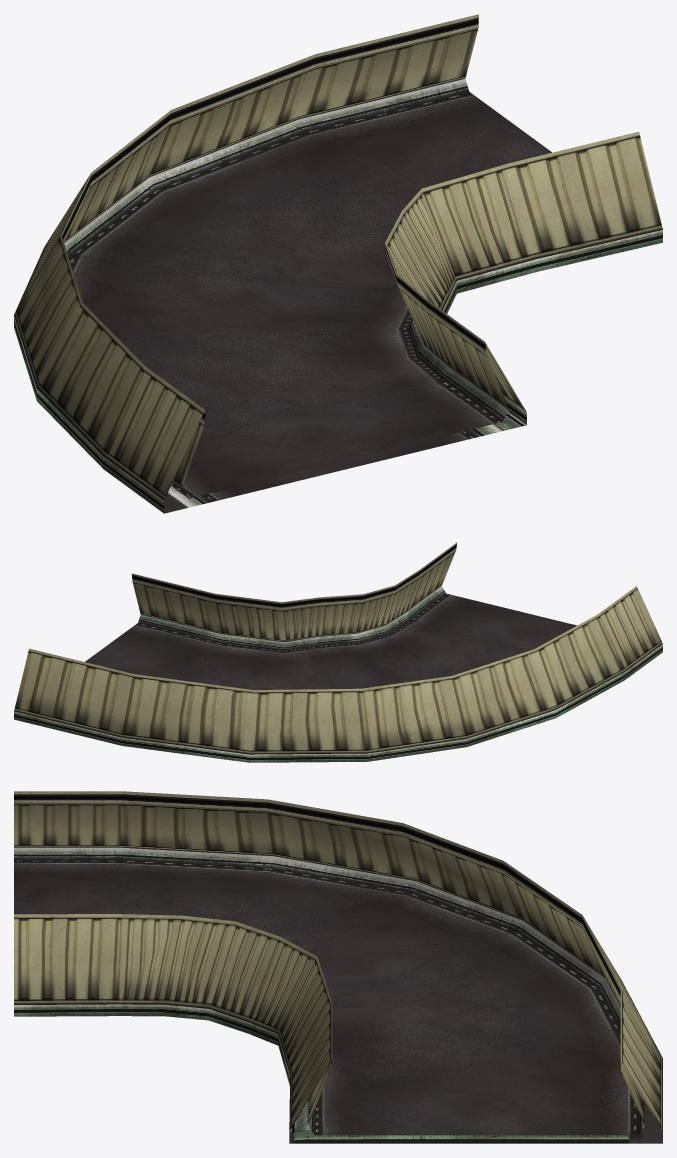
File: Walled_Turn_45.fbx
The picture shows the model from 3 angles, top to bottom: view 1: azimuth 30°, elevation 25°; view 2: azimuth 150°, elevation 25°; view 3: azimuth 270°, elevation 25°; orthographic projection. The views are drawn at different scales.
Visible parts, largest first — view 1: Walled_Smallturn; view 2: Walled_Smallturn; view 3: Walled_Smallturn.
Boxes of the visible parts, box(x1,y1,x2,y2) form: Walled_Smallturn: box(14, 14, 662, 513); Walled_Smallturn: box(14, 542, 662, 762); Walled_Smallturn: box(14, 791, 662, 1143).
Size of what is drawn, in the model's own units: 33.25 by 4.89 by 31.87.
